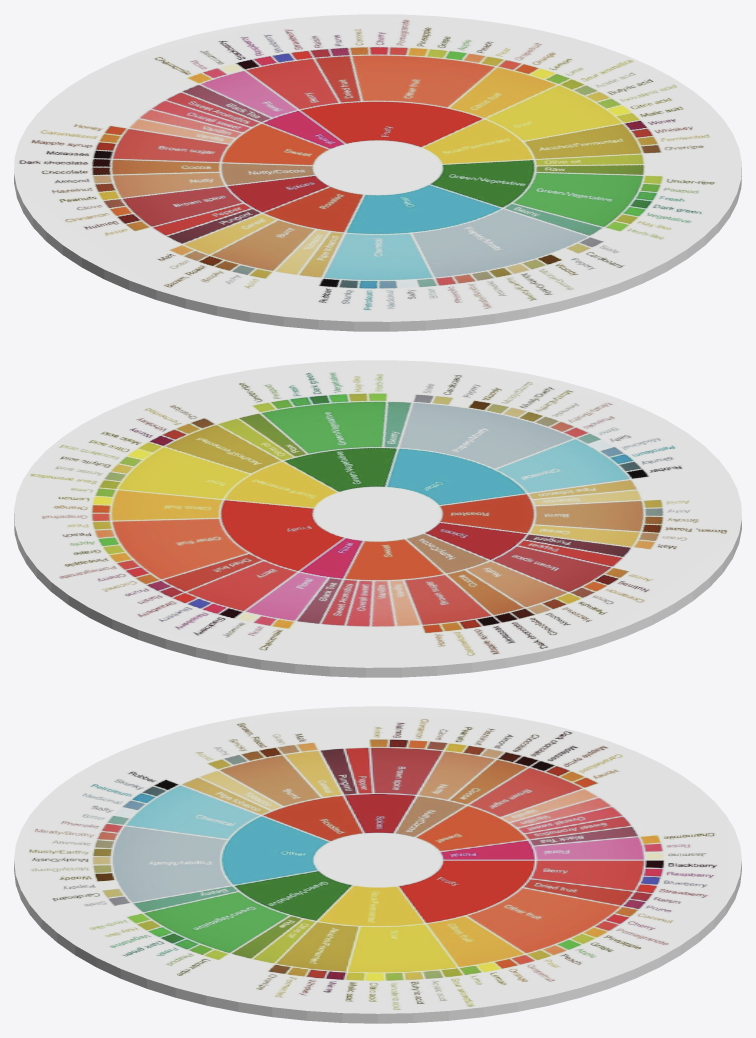
The model's file is wheel.gltf.
3 views of the same model, one above another, from view 1: azimuth 30°, elevation 25°; view 2: azimuth 150°, elevation 25°; view 3: azimuth 270°, elevation 25° (orthographic).
Visible parts, largest first — view 1: Cylinder; view 2: Cylinder; view 3: Cylinder.
Part boxes in pixels (x1,y1,x2,y2): Cylinder: (14, 14, 741, 331); Cylinder: (14, 360, 741, 677); Cylinder: (14, 706, 741, 1023).
Bounding box in the file's own units: 20 × 0.3 × 20.
1 material, 1 textured.
